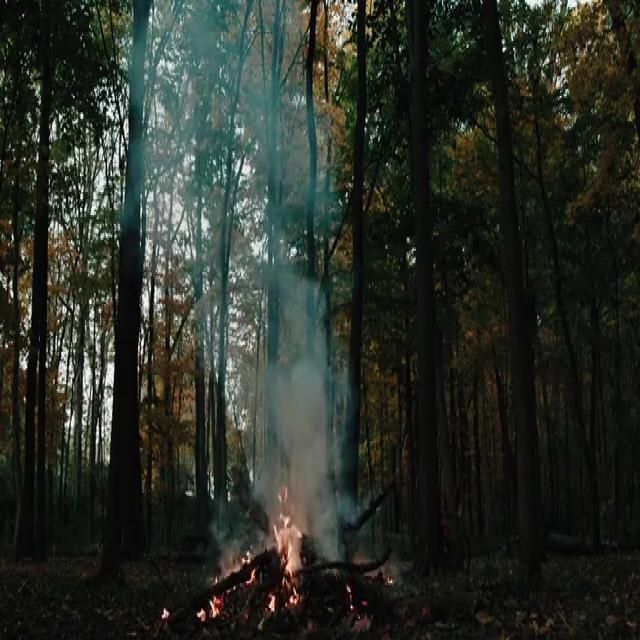smoke: (255, 314, 352, 534)
